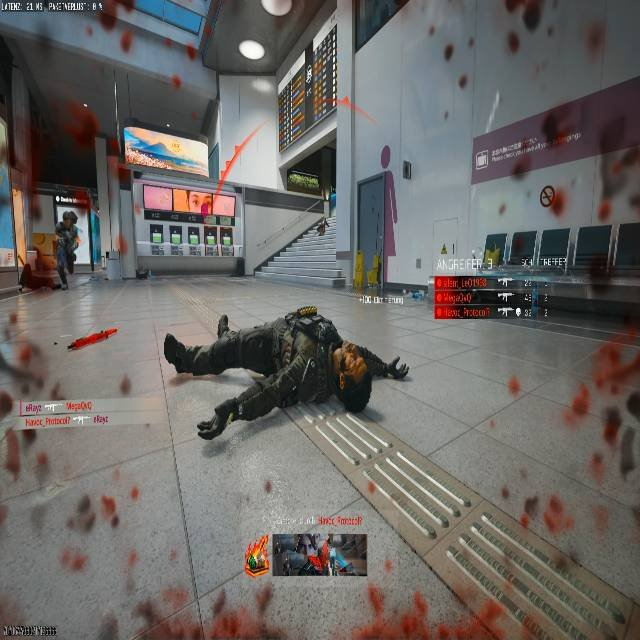head: (335, 358, 372, 413), (63, 211, 76, 227)
player: (53, 210, 82, 289)
